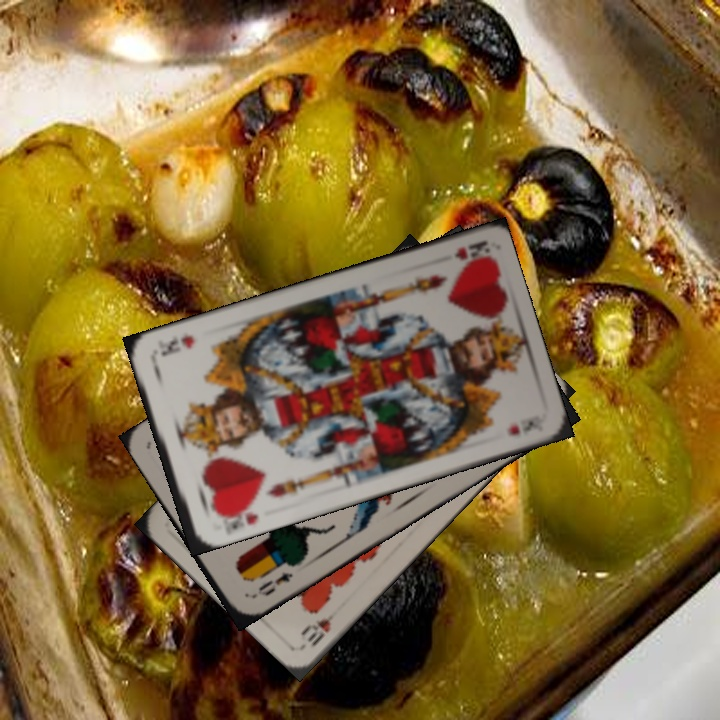EO: (248, 567, 296, 602)
H10: (297, 602, 342, 650)
HK: (213, 499, 260, 532), (451, 237, 489, 266)
